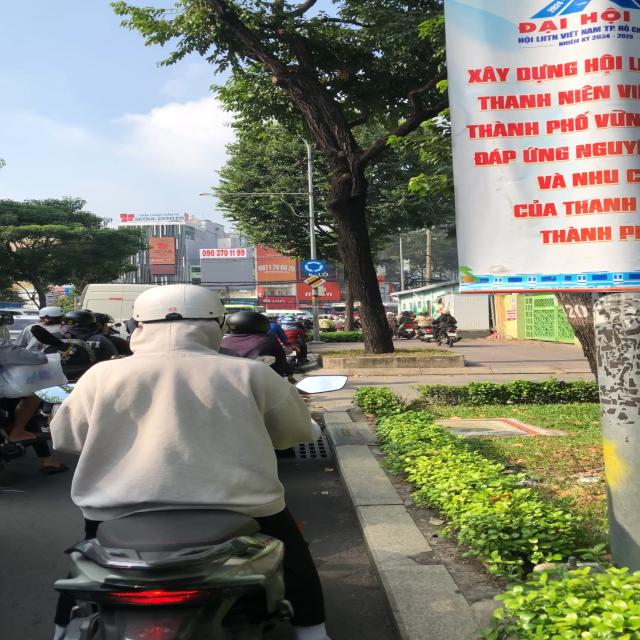Bien bao noi giao nhau chay theo vong xuyen: (298, 259, 330, 275)
